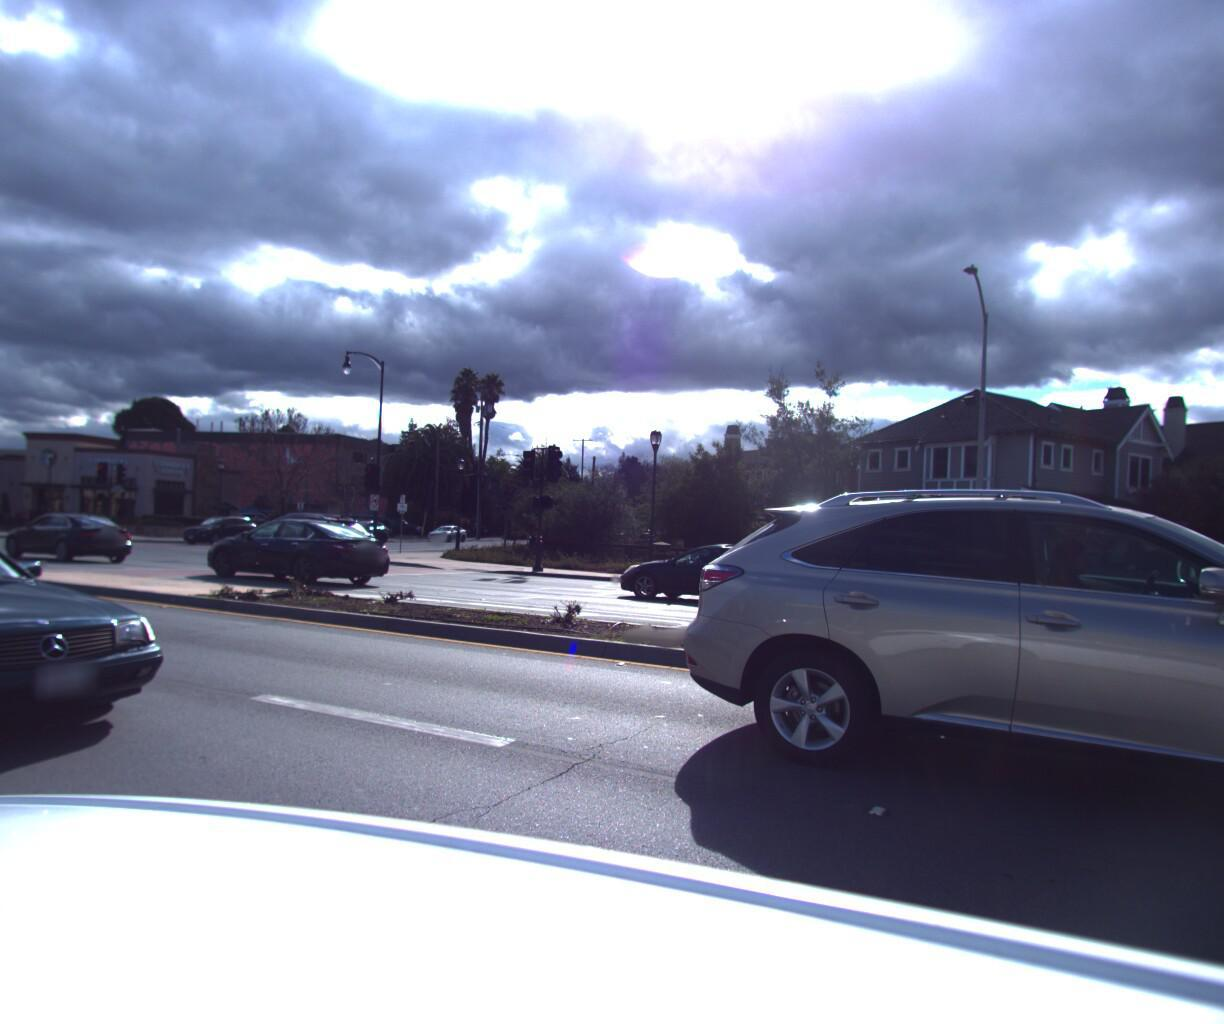car: (648, 479, 1224, 935), (0, 497, 212, 808), (615, 530, 818, 609), (190, 511, 393, 587), (224, 502, 382, 570), (0, 504, 139, 561), (176, 507, 266, 540)
